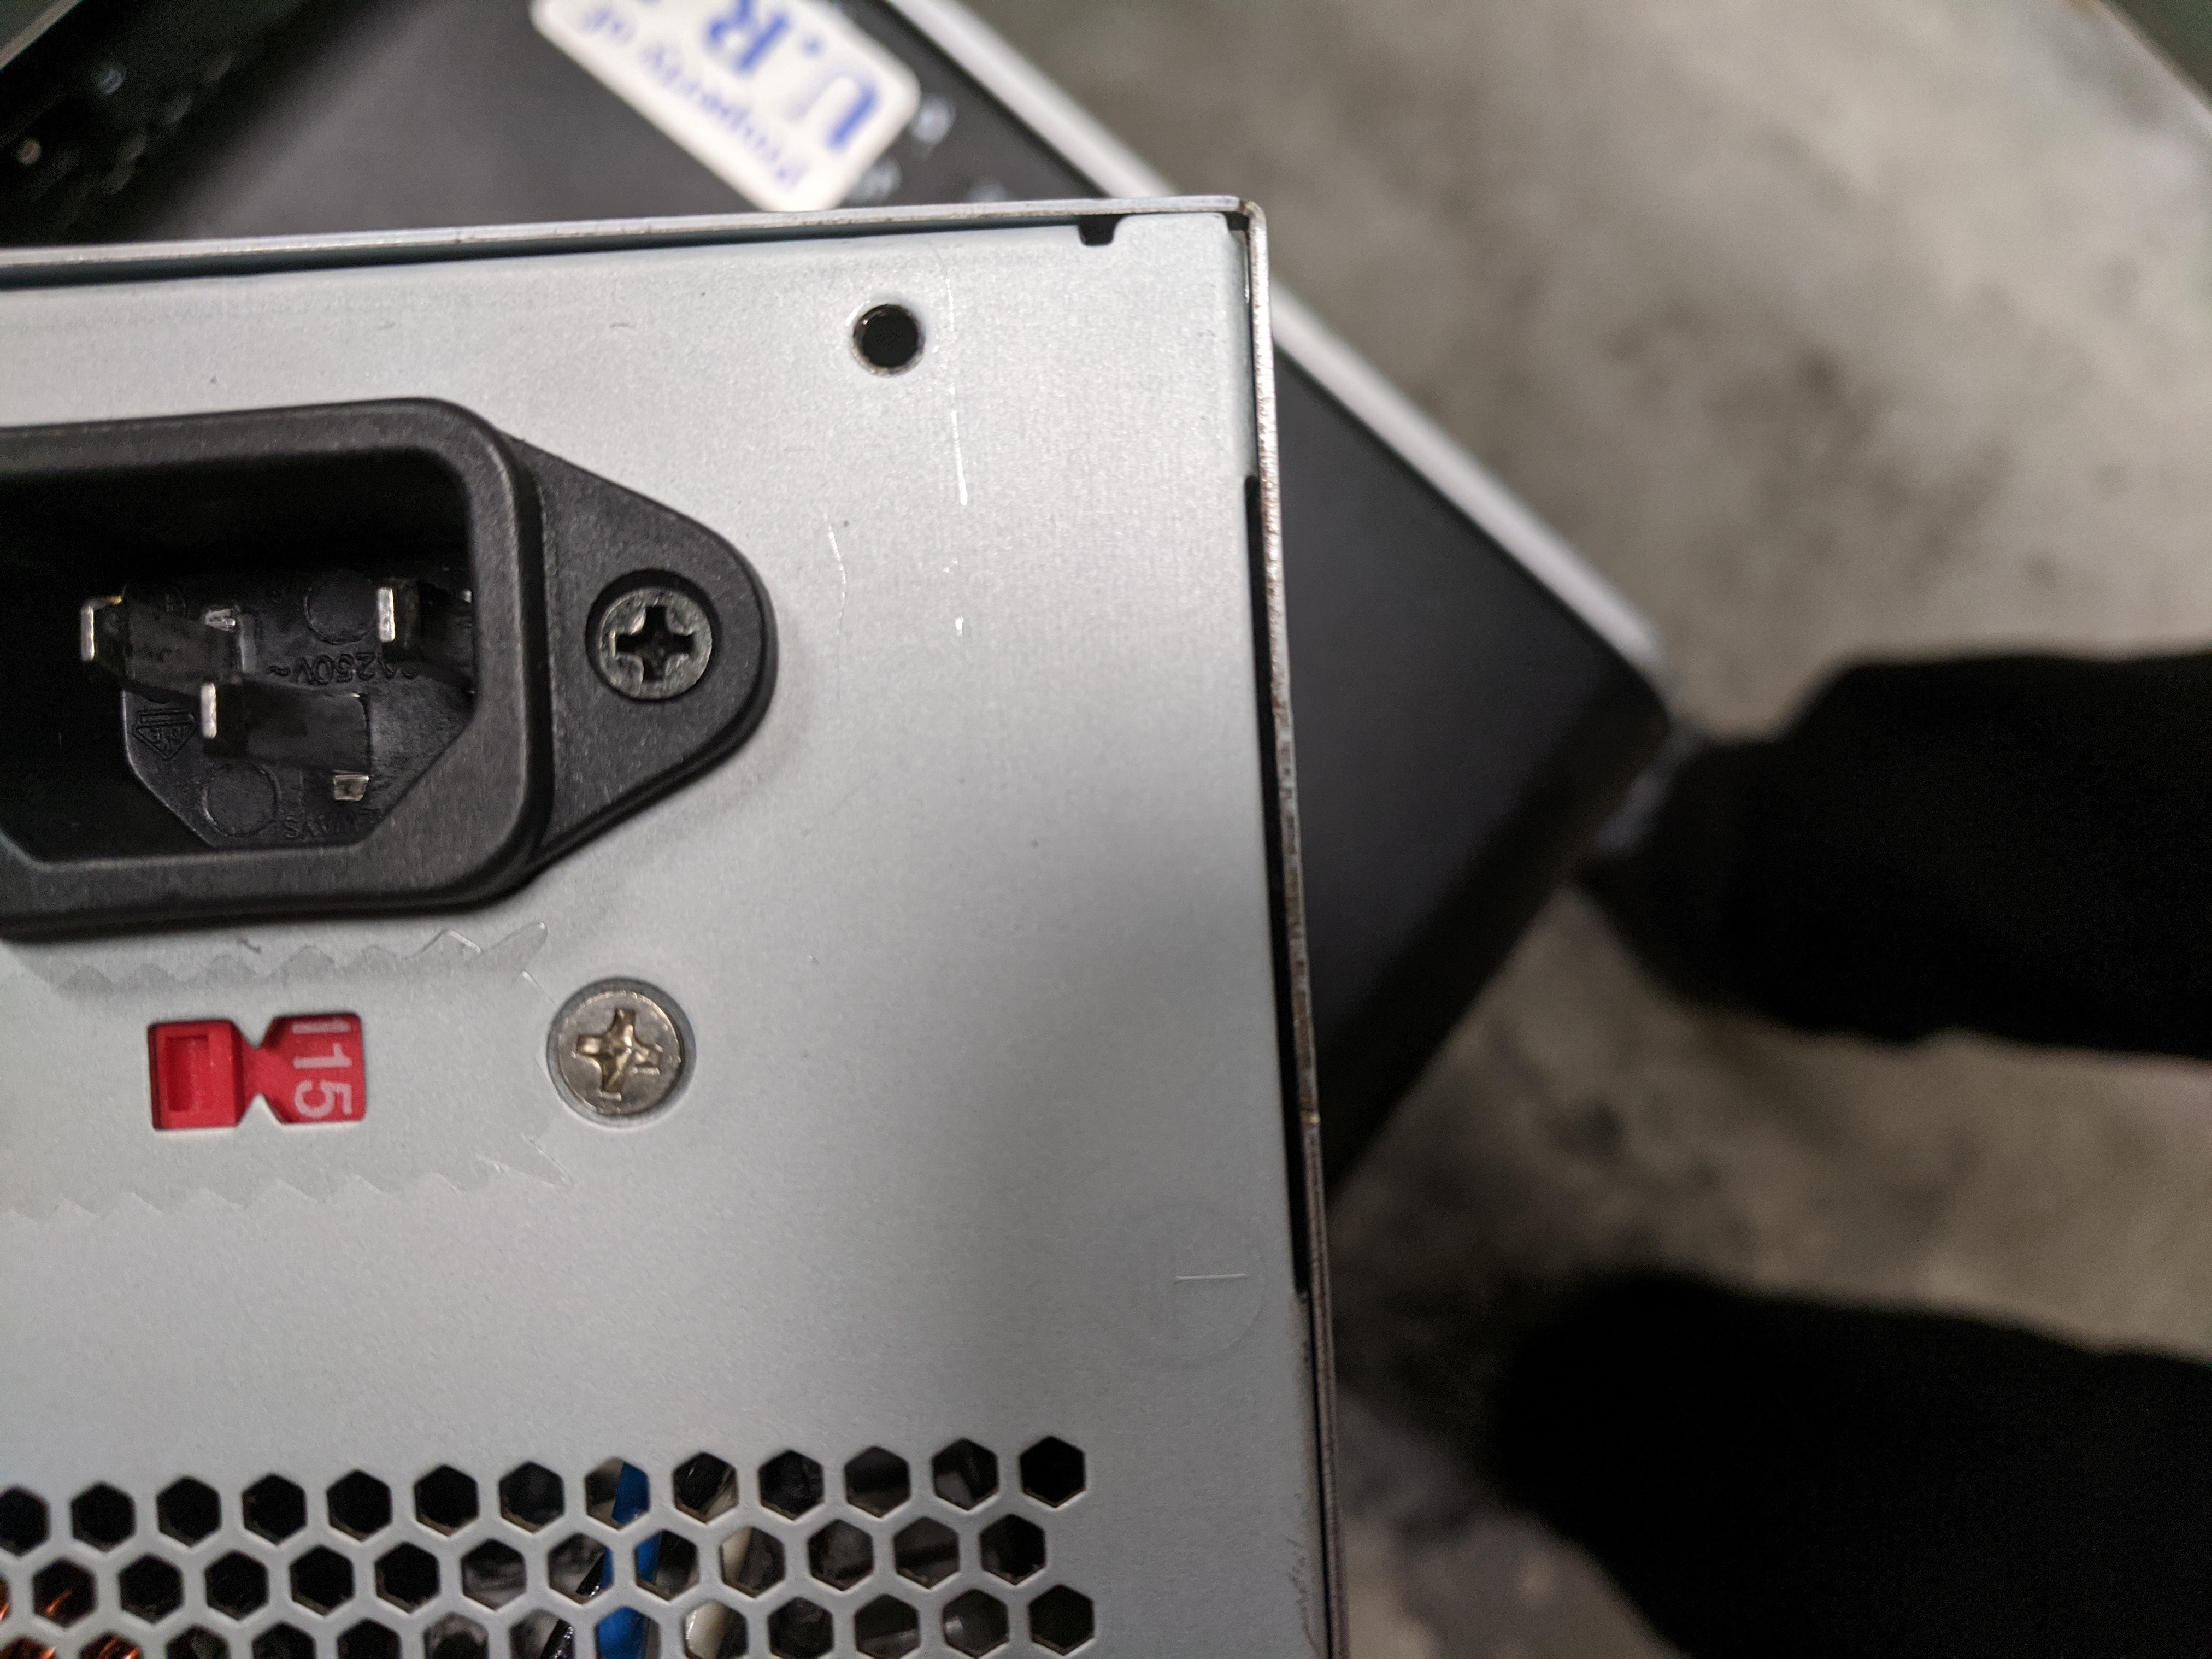cross_recessed_screw: (529, 960, 700, 1127), (580, 563, 723, 706)
